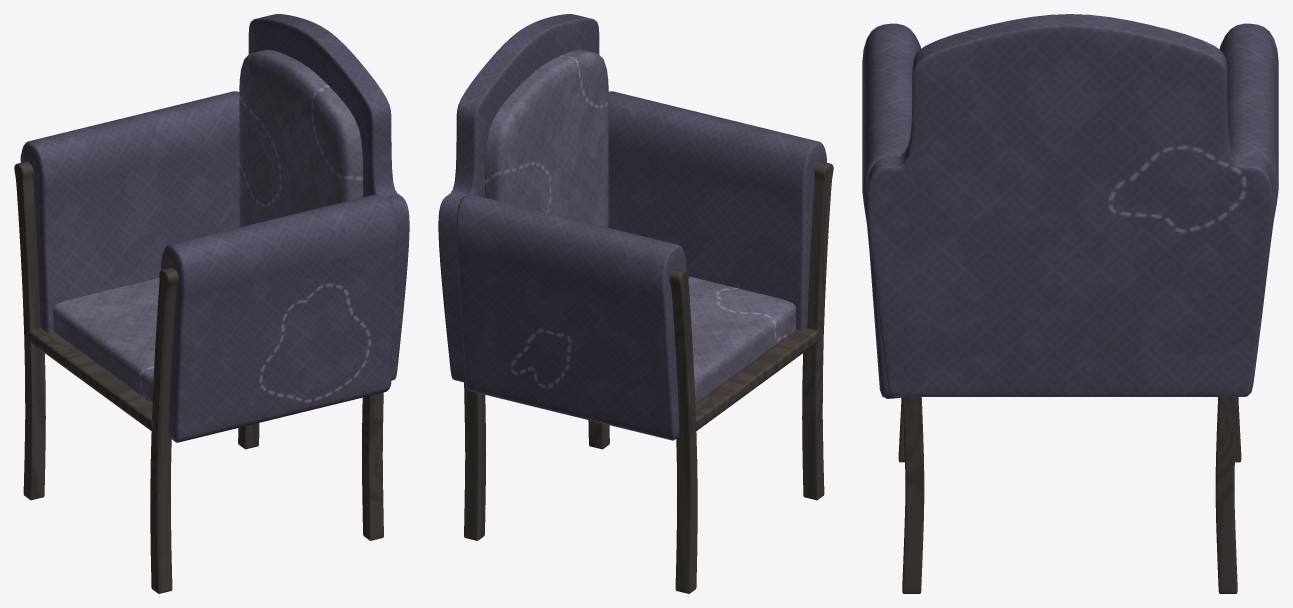
Rendered from Chair_Sad.fbx.
The picture shows the model from 3 angles, left to right: view 1: azimuth 30°, elevation 25°; view 2: azimuth 150°, elevation 25°; view 3: azimuth 270°, elevation 25°; orthographic projection. The views are drawn at different scales.
Visible parts, largest first — view 1: Armchair_01; view 2: Armchair_01; view 3: Armchair_01.
Part boxes in pixels (x1,y1,x2,y2): Armchair_01: (14,14,409,593); Armchair_01: (438,14,833,593); Armchair_01: (862,14,1278,593).
Bounding box in the file's own units: 66.78 × 121 × 78.94.
